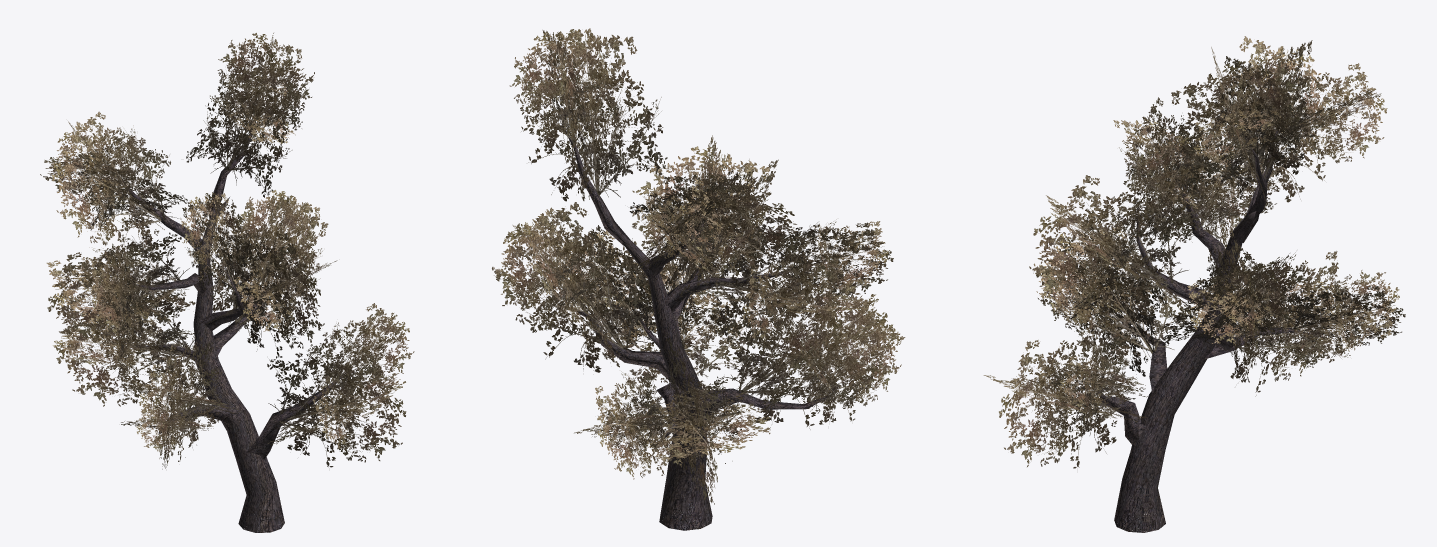
The model's file is tree_01.DAE.
The picture shows the model from 3 angles, left to right: view 1: azimuth 30°, elevation 25°; view 2: azimuth 150°, elevation 25°; view 3: azimuth 270°, elevation 25°; orthographic projection. The views are drawn at different scales.
Parts seen in each view (by area): view 1: Tree_Leafy_01a, Object001; view 2: Tree_Leafy_01a, Object001; view 3: Tree_Leafy_01a, Object001.
Boxes of the visible parts, x1,y1,x2,y2 form: Tree_Leafy_01a: (40, 33, 414, 469); Object001: (122, 122, 346, 532); Tree_Leafy_01a: (492, 28, 905, 504); Object001: (561, 123, 827, 530); Tree_Leafy_01a: (983, 36, 1405, 468); Object001: (1096, 126, 1323, 532).
Size of the model in its own units: 6.77 by 8.64 by 7.23.
